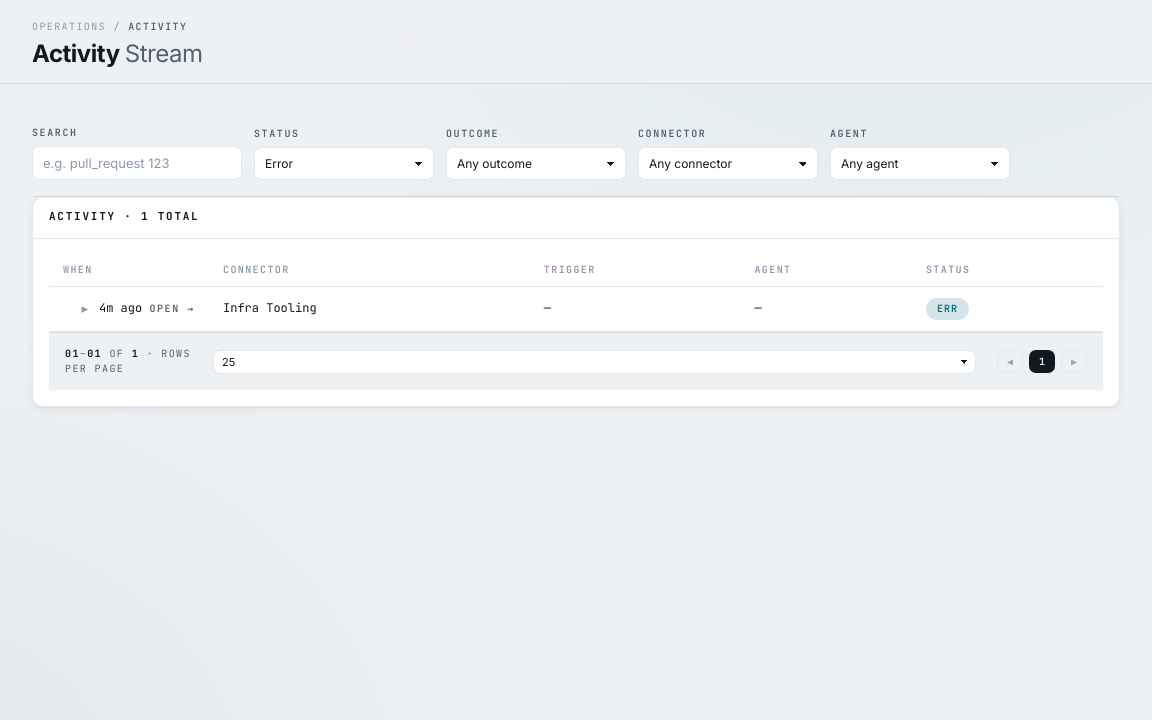
Test: Activity › URL-persisted filters › removes the filter param from the URL when cleared
Expected: the link "▸ 4m ago open → Infra Tooling — — ERR" is shown, [49, 286, 1103, 332]
Select "Any status" in the dropdown named "filter by status" at (344, 164), box [254, 147, 434, 180]
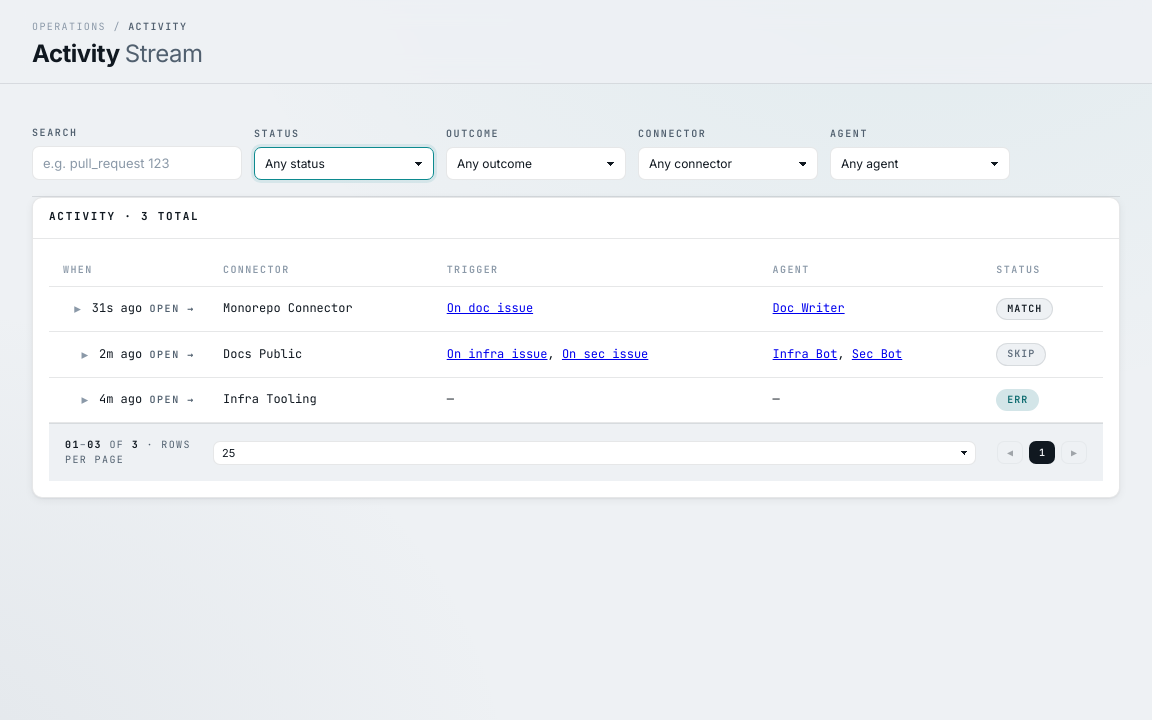
Result: the number of links with class "activity-row" is 3 at [49, 286, 1103, 332]; [49, 332, 1103, 377]; [49, 377, 1103, 423]
